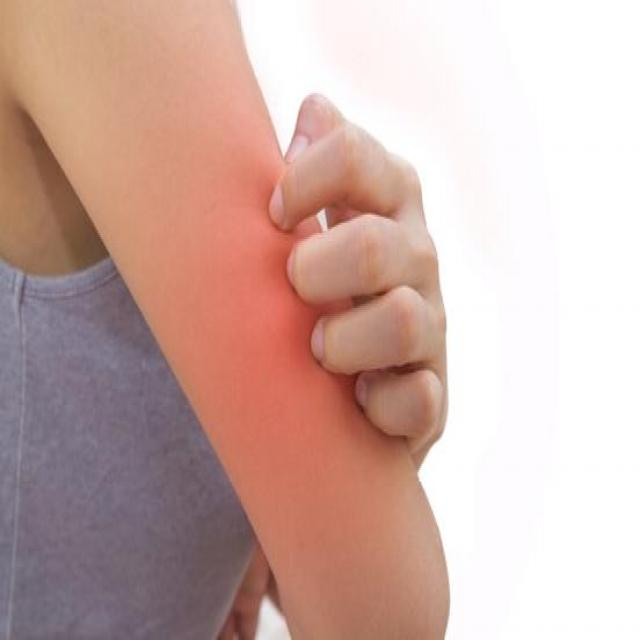eczema: (226, 202, 314, 470)
